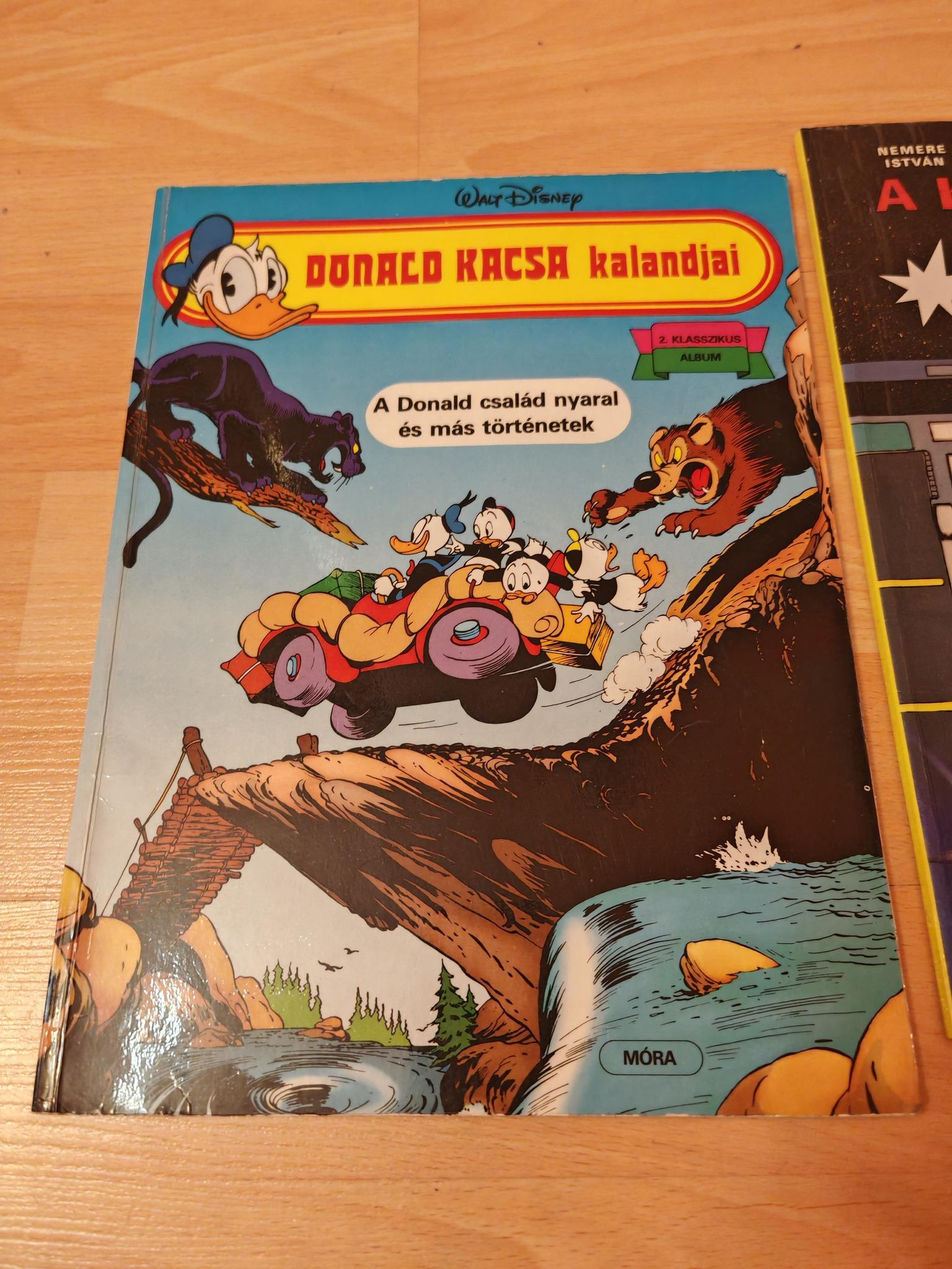comic: (35, 172, 917, 1113)
